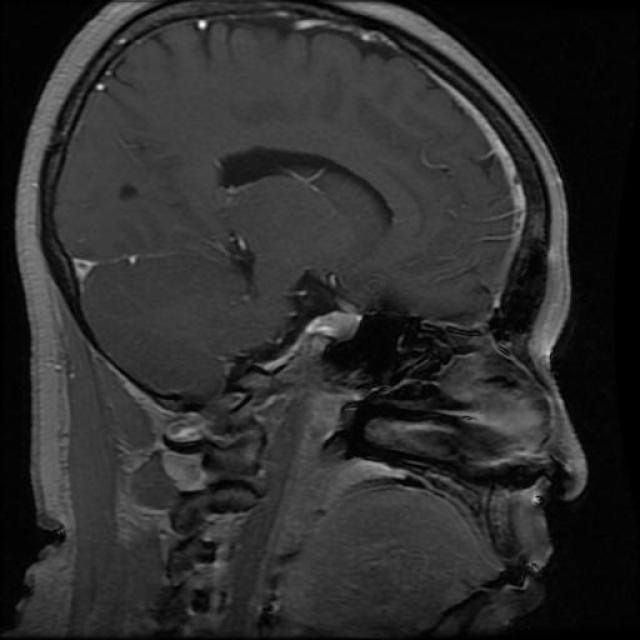pituitary: (240, 300, 378, 381)
